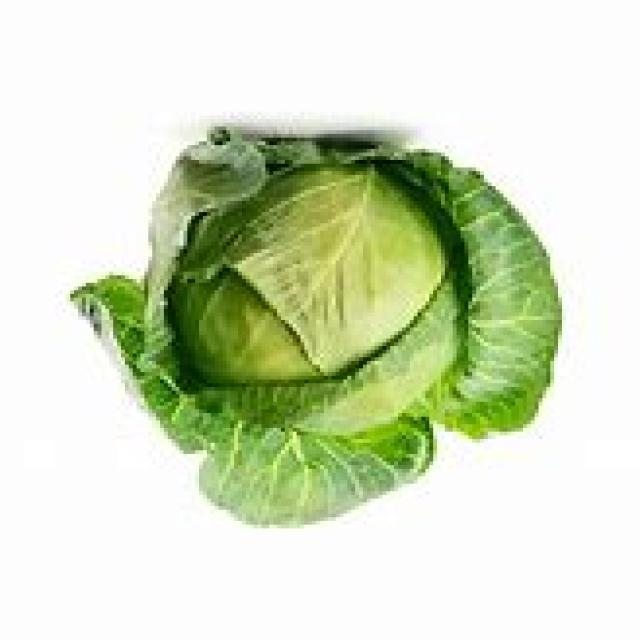cabbage: (99, 125, 556, 528)
